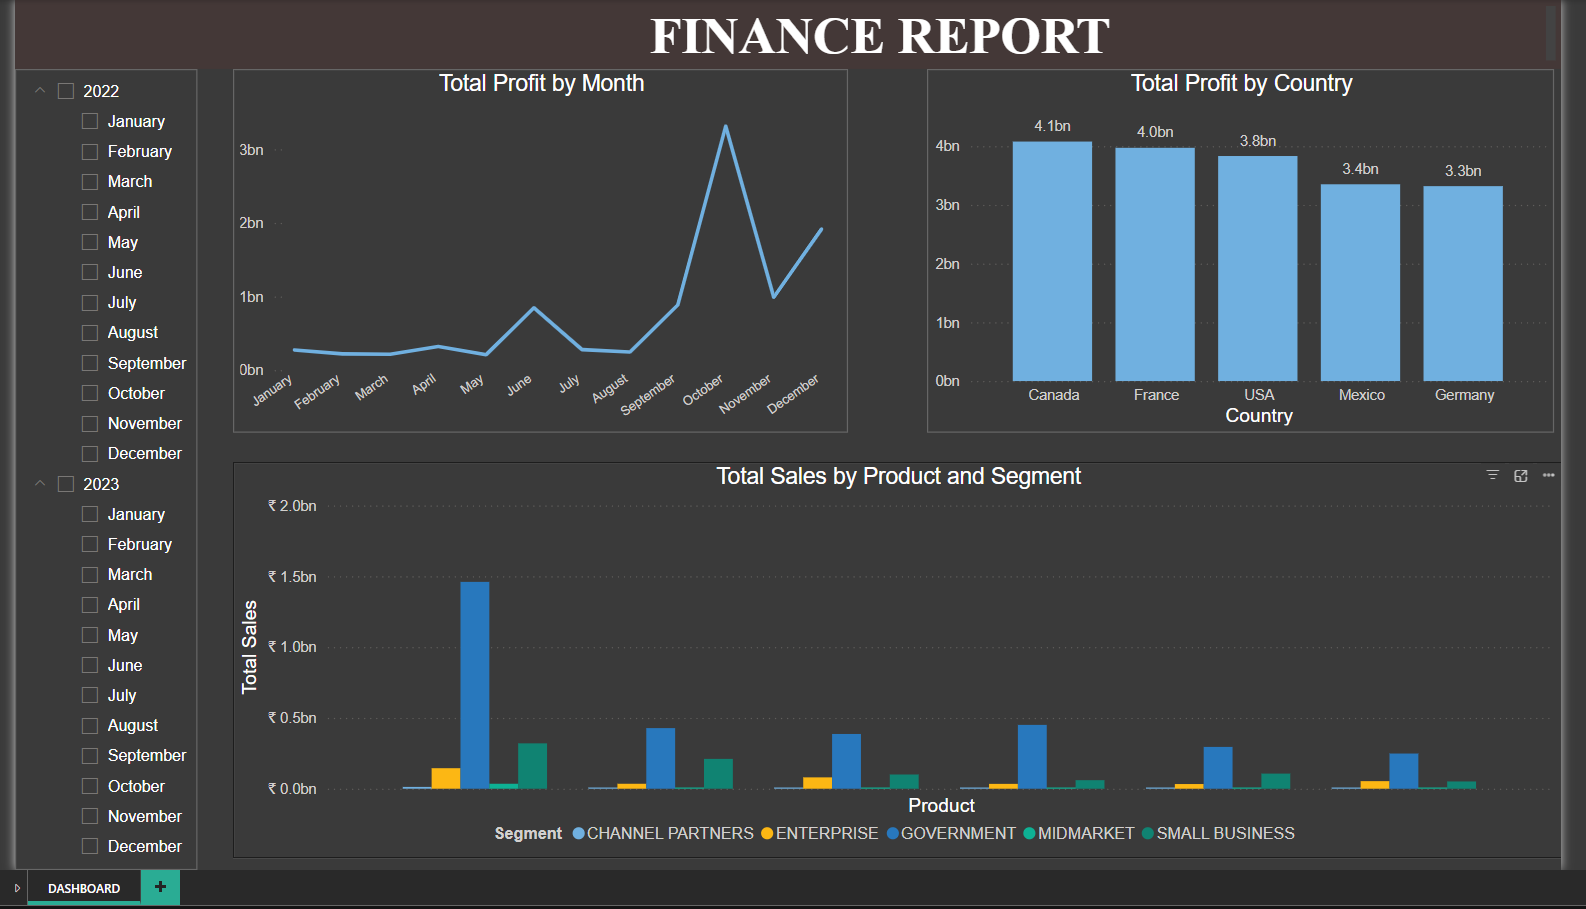

Layout of this report page (visuals, bound fields, positions):
{"tool":"powerbi","page":{"name":"DASHBOARD","canvas":[1280,720],"ordinal":0},"visuals":[{"type":"columnChart","fields":{"Category":["sales_data.Country"],"Y":["sales_data.Total Profit"]},"box":[754.8,57.1,518.9,301.2],"z":0},{"type":"clusteredColumnChart","fields":{"Category":["sales_data.Product"],"Y":["sales_data.Total Sales"],"Series":["sales_data.Segment"]},"box":[180.4,382.3,1099.9,327.7],"z":1000},{"type":"lineChart","fields":{"Category":["Calendar.Date.Variation.Date Hierarchy.Month"],"Y2":["sales_data.Total Profit"]},"box":[180.4,57.1,509,301.2],"z":2000},{"type":"slicer","fields":{"Values":["Calendar.Date.Variation.Date Hierarchy.Year","Calendar.Date.Variation.Date Hierarchy.Month"]},"box":[0,56.9,151.1,663.1],"z":3000},{"type":"textbox","box":[0,0,1280,56.9],"z":4000}]}

Visuals, with their boxes on the page's 1280x720 design canvas (x1, y1, x2, y2). These are canvas units, not pixel positions in the 1586x909 screenshot, which may show the page scaled, cropped or inside an application window:
columnChart - sales_data.Country x sales_data.Total Profit: left=755, top=57, right=1274, bottom=358
clusteredColumnChart - sales_data.Product x sales_data.Total Sales: left=180, top=382, right=1280, bottom=710
lineChart - Calendar.Date.Variation.Date Hierarchy.Month x sales_data.Total Profit: left=180, top=57, right=689, bottom=358
slicer - Calendar.Date.Variation.Date Hierarchy.Year x Calendar.Date.Variation.Date Hierarchy.Month: left=0, top=57, right=151, bottom=720
textbox: left=0, top=0, right=1280, bottom=57
